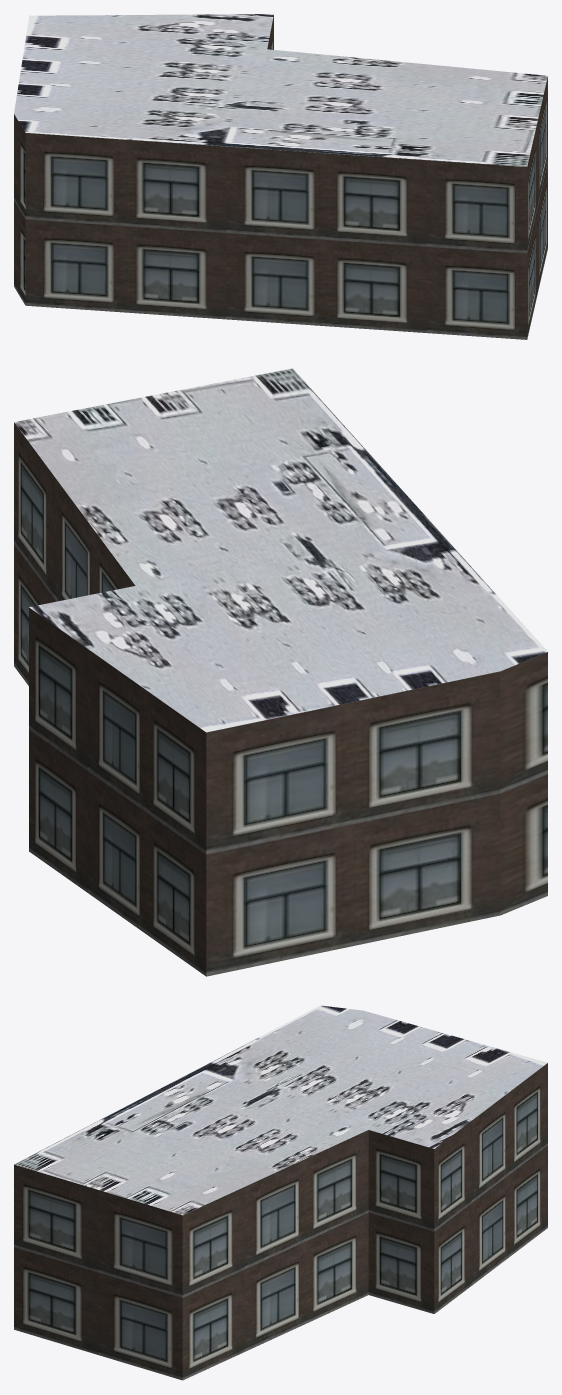
File: ResTex__2763.fbx
The picture shows the model from 3 angles, top to bottom: view 1: azimuth 30°, elevation 25°; view 2: azimuth 150°, elevation 25°; view 3: azimuth 270°, elevation 25°; orthographic projection. The views are drawn at different scales.
Parts seen in each view (by area): view 1: CityEngineMaterial_16_m, CityEngineMaterial_15_m; view 2: CityEngineMaterial_16_m, CityEngineMaterial_15_m; view 3: CityEngineMaterial_16_m, CityEngineMaterial_15_m.
Boxes of the visible parts, x1,y1,x2,y2 form: CityEngineMaterial_16_m: (14, 15, 547, 339); CityEngineMaterial_15_m: (14, 14, 547, 166); CityEngineMaterial_16_m: (14, 422, 547, 976); CityEngineMaterial_15_m: (14, 368, 547, 732); CityEngineMaterial_16_m: (14, 1063, 547, 1380); CityEngineMaterial_15_m: (14, 1005, 547, 1215).
Bounding box in the file's own units: 16.35 × 6 × 17.58.
2 materials, 2 textured.
